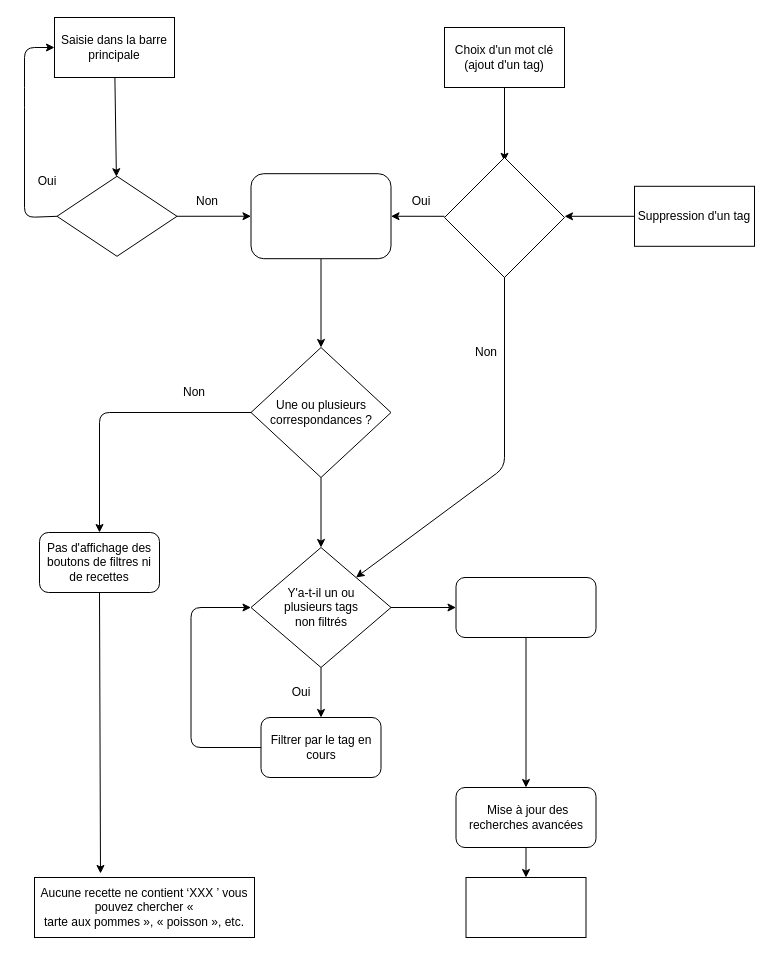
This 772x955 diagram has some shape labels left out. Here are the shapes that lost their labels. From the top down, the box of each, then its label:
(56, 175, 177, 256): saisie.length < 3
(250, 173, 391, 259): Tri depuis le titre, les ingrédients et la description dans les recettes
(444, 156, 564, 278): Y'a-t-il une saisie dans la barre principale > 3
(455, 576, 596, 638): Affichage des recettes
(465, 876, 586, 938): L'utilisateur peut choisir une recette
